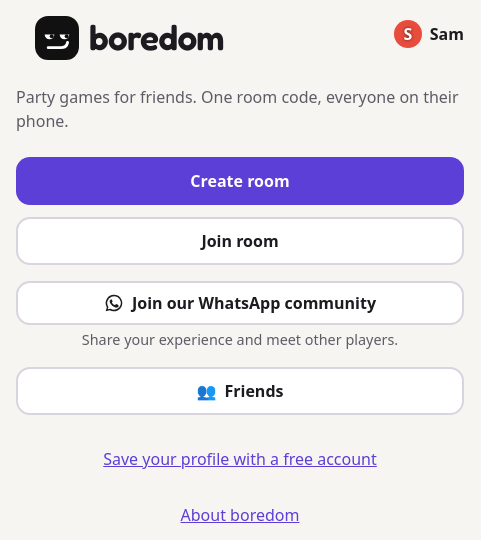
Scenario: room page › shows a clear message when the seat is lost
Step 1. Click the button "Create room" → (240, 181), box [16,157,464,205]
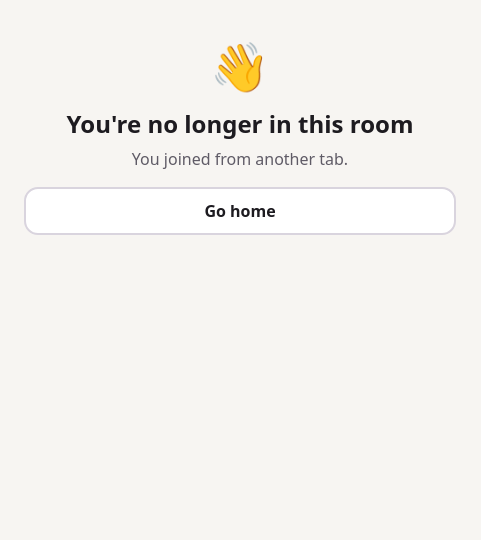
Check: the heading "You're no longer in this room" is shown, box [66,110,413,139]
Check: the text "You joined from another tab." is shown, box [132,147,348,171]
